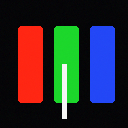4 line_v: (62, 64, 66, 118)
